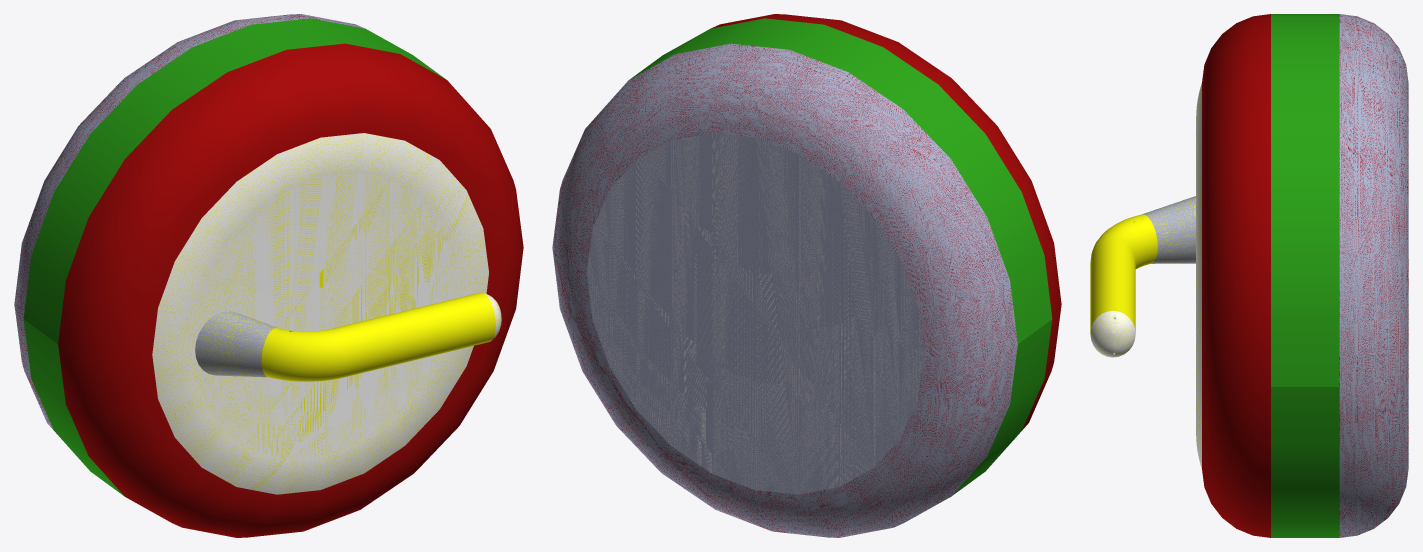
The model's file is curlingStone.obj.
3 renders of one model, left to right at view 1: azimuth 30°, elevation 25°; view 2: azimuth 150°, elevation 25°; view 3: azimuth 270°, elevation 25°, orthographic.
Visible parts, largest first — view 1: ID29, ID50, ID4, ID58, ID42, ID70; view 2: ID21, ID42, ID4, ID29; view 3: ID4, ID42, ID29, ID58, ID70, ID50, ID88.
Boxes of the visible parts, left/top/right/bottom form: ID29: left=58, top=43, right=523, bottom=537; ID50: left=152, top=133, right=488, bottom=494; ID4: left=23, top=18, right=446, bottom=496; ID58: left=261, top=292, right=495, bottom=381; ID42: left=14, top=14, right=364, bottom=430; ID70: left=195, top=311, right=276, bottom=377; ID21: left=587, top=133, right=923, bottom=494; ID42: left=552, top=43, right=1017, bottom=537; ID4: left=629, top=18, right=1052, bottom=496; ID29: left=711, top=14, right=1061, bottom=430; ID4: left=1271, top=14, right=1339, bottom=537; ID42: left=1339, top=14, right=1408, bottom=537; ID29: left=1202, top=14, right=1270, bottom=537; ID58: left=1090, top=214, right=1157, bottom=333; ID70: left=1141, top=196, right=1195, bottom=263; ID50: left=1196, top=83, right=1201, bottom=468; ID88: left=1090, top=311, right=1135, bottom=357.
Size of the model in its own units: 0.2911 by 0.2911 by 0.176.
